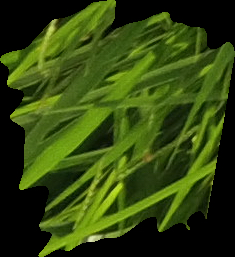grass: (1, 1, 233, 255)
